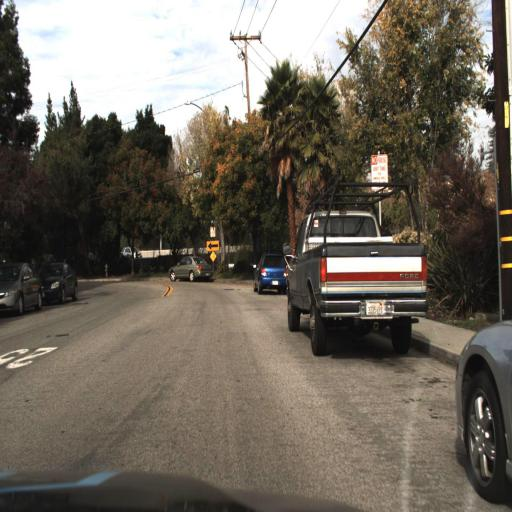car: (281, 167, 430, 361), (454, 310, 512, 504), (0, 260, 43, 318), (251, 248, 292, 294), (40, 260, 80, 307), (169, 251, 214, 283)
